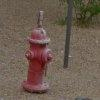Hydrant: (19, 11, 55, 94)
